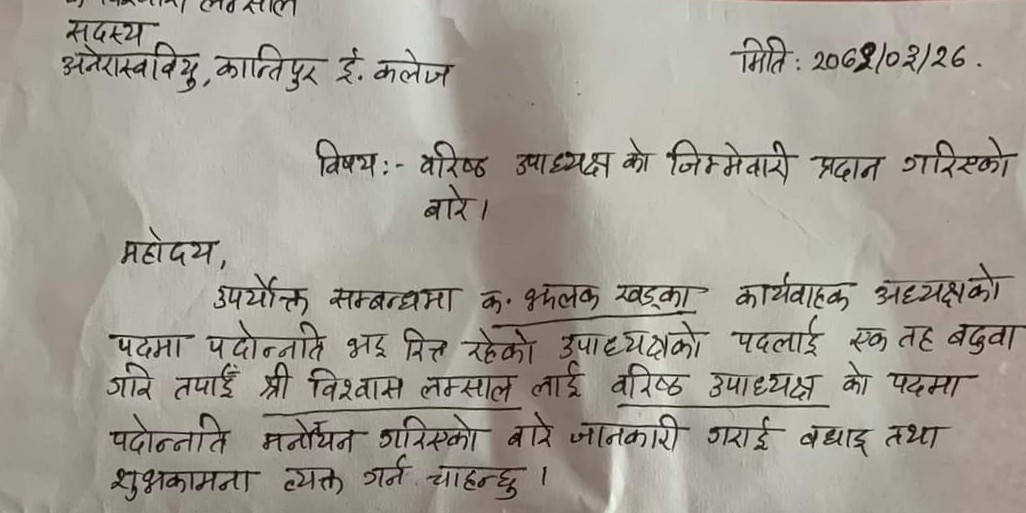text: (663, 133, 793, 192), (57, 47, 198, 94), (100, 465, 266, 502), (101, 411, 237, 456), (209, 37, 320, 92), (869, 262, 1007, 306), (107, 223, 228, 273), (560, 319, 707, 360), (896, 132, 1015, 180), (727, 268, 853, 313), (568, 411, 688, 456), (324, 280, 460, 318), (203, 319, 323, 359), (422, 458, 531, 500), (374, 413, 484, 453), (726, 313, 825, 357), (209, 274, 314, 315), (704, 365, 819, 402), (307, 366, 404, 409), (610, 274, 710, 315), (255, 417, 362, 452), (512, 145, 613, 182), (805, 141, 882, 189), (307, 136, 382, 184), (412, 137, 489, 183), (884, 363, 974, 402), (796, 415, 872, 460), (370, 50, 455, 90), (103, 327, 200, 362), (947, 315, 1024, 359), (417, 372, 517, 405), (704, 415, 781, 456), (461, 326, 539, 366), (518, 278, 601, 315), (730, 35, 794, 82), (806, 36, 876, 78), (609, 364, 688, 401), (171, 361, 244, 400), (61, 15, 152, 46), (276, 460, 348, 496), (499, 409, 559, 451), (879, 417, 955, 450), (417, 184, 474, 227), (101, 364, 160, 405), (928, 37, 975, 86), (396, 324, 452, 363), (360, 455, 413, 496), (531, 367, 587, 404), (340, 324, 390, 365), (895, 318, 944, 355), (254, 364, 296, 402), (331, 43, 363, 90), (840, 362, 877, 401), (848, 320, 889, 355), (886, 43, 920, 83), (621, 130, 647, 182), (475, 284, 507, 320)
